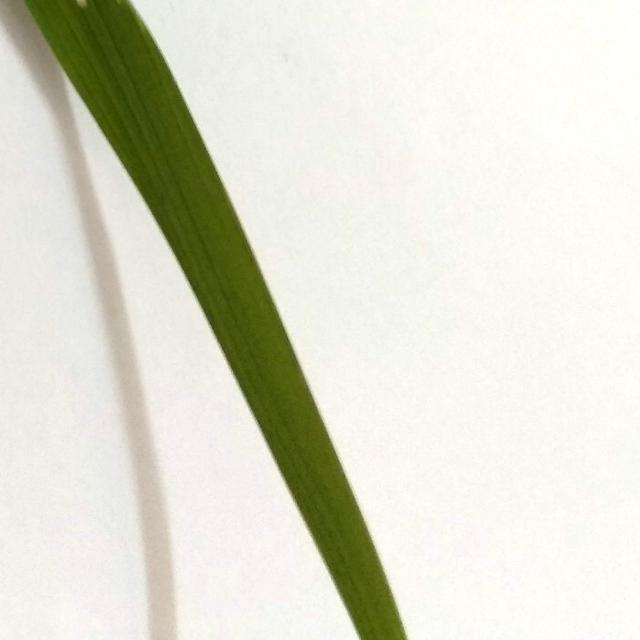Rice_Healthy: (25, 0, 407, 640)
